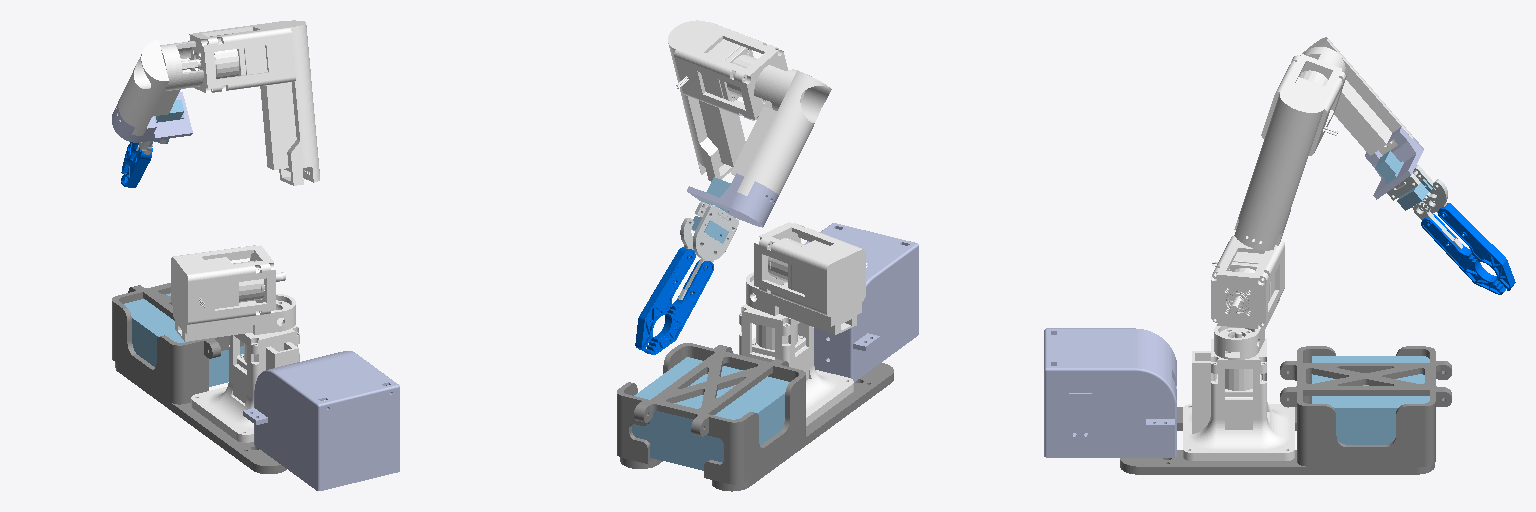
The robot description file, URDF, robot "onshape":
<robot name="onshape">
<link name="base">
<visual>
<origin xyz="-0.043000000000000093703 -0.056249572745411466346 0.053674572697836049617" rpy="1.570796326794896558 6.9388939039074071039e-18 -2.0296264668928948688e-16" />
<geometry>
<mesh filename="package://arm/robot/Whole_Assem/batterycover.stl"/>
</geometry>
<material name="batterycover_material">
<color rgba="0.79607843137254896693 0.82352941176470584317 0.9372549019607843146 1.0"/>
</material>
</visual>
<collision>
<origin xyz="-0.043000000000000093703 -0.056249572745411466346 0.053674572697836049617" rpy="1.570796326794896558 6.9388939039074071039e-18 -2.0296264668928948688e-16" />
<geometry>
<mesh filename="package://arm/robot/Whole_Assem/batterycover.stl"/>
</geometry>
</collision>
<visual>
<origin xyz="0.027999999999999969358 0.045620425736449282672 -0.0078254274213730105197" rpy="-1.570796326794896558 -0 -1.570796326794896558" />
<geometry>
<mesh filename="package://arm/robot/Whole_Assem/bar.stl"/>
</geometry>
<material name="bar_material">
<color rgba="0.62745098039215685404 0.62745098039215685404 0.62745098039215685404 1.0"/>
</material>
</visual>
<collision>
<origin xyz="0.027999999999999969358 0.045620425736449282672 -0.0078254274213730105197" rpy="-1.570796326794896558 -0 -1.570796326794896558" />
<geometry>
<mesh filename="package://arm/robot/Whole_Assem/bar.stl"/>
</geometry>
</collision>
<visual>
<origin xyz="-0.045499999999999984901 0.18587042725458807757 0.00017457269783627965554" rpy="-1.570796326794896558 -0 -1.570796326794896558" />
<geometry>
<mesh filename="package://arm/robot/Whole_Assem/nuc_enclosure_right_v8.step.stl"/>
</geometry>
<material name="nuc_enclosure_right_v8.step_material">
<color rgba="0.62745098039215685404 0.62745098039215685404 0.62745098039215685404 1.0"/>
</material>
</visual>
<collision>
<origin xyz="-0.045499999999999984901 0.18587042725458807757 0.00017457269783627965554" rpy="-1.570796326794896558 -0 -1.570796326794896558" />
<geometry>
<mesh filename="package://arm/robot/Whole_Assem/nuc_enclosure_right_v8.step.stl"/>
</geometry>
</collision>
<visual>
<origin xyz="-0.029000000000002121303 0.050370427254587735177 0.059174572697836602675" rpy="1.570796326794896558 9.0105057071027178548e-17 1.570796326794896558" />
<geometry>
<mesh filename="package://arm/robot/Whole_Assem/cap.stl"/>
</geometry>
<material name="cap_material">
<color rgba="0.62745098039215685404 0.62745098039215685404 0.62745098039215685404 1.0"/>
</material>
</visual>
<collision>
<origin xyz="-0.029000000000002121303 0.050370427254587735177 0.059174572697836602675" rpy="1.570796326794896558 9.0105057071027178548e-17 1.570796326794896558" />
<geometry>
<mesh filename="package://arm/robot/Whole_Assem/cap.stl"/>
</geometry>
</collision>
<visual>
<origin xyz="-9.0000000000006741274e-05 -0.001039572745412595256 0.037174572697836277824" rpy="-1.570796326794896558 -0 0" />
<geometry>
<mesh filename="package://arm/robot/Whole_Assem/motor.stl"/>
</geometry>
<material name="motor_material">
<color rgba="1 1 1 1.0"/>
</material>
</visual>
<collision>
<origin xyz="-9.0000000000006741274e-05 -0.001039572745412595256 0.037174572697836277824" rpy="-1.570796326794896558 -0 0" />
<geometry>
<mesh filename="package://arm/robot/Whole_Assem/motor.stl"/>
</geometry>
</collision>
<visual>
<origin xyz="0.045500000000000005718 0.037870427254587731014 0.00017457269783625623677" rpy="-1.570796326794896558 -2.2204460492410355836e-16 1.57079632679489678" />
<geometry>
<mesh filename="package://arm/robot/Whole_Assem/nuc_enclosure_left_v27.step.stl"/>
</geometry>
<material name="nuc_enclosure_left_v27.step_material">
<color rgba="0.62745098039215685404 0.62745098039215685404 0.62745098039215685404 1.0"/>
</material>
</visual>
<collision>
<origin xyz="0.045500000000000005718 0.037870427254587731014 0.00017457269783625623677" rpy="-1.570796326794896558 -2.2204460492410355836e-16 1.57079632679489678" />
<geometry>
<mesh filename="package://arm/robot/Whole_Assem/nuc_enclosure_left_v27.step.stl"/>
</geometry>
</collision>
<visual>
<origin xyz="0 -0.001129572745412591589 0.00017457269783627965554" rpy="0 -0 0" />
<geometry>
<mesh filename="package://arm/robot/Whole_Assem/base.stl"/>
</geometry>
<material name="base_material">
<color rgba="1 1 1 1.0"/>
</material>
</visual>
<collision>
<origin xyz="0 -0.001129572745412591589 0.00017457269783627965554" rpy="0 -0 0" />
<geometry>
<mesh filename="package://arm/robot/Whole_Assem/base.stl"/>
</geometry>
</collision>
<visual>
<origin xyz="-0.0030000000000000581757 0.11587042725458805703 0.0041745726978362797388" rpy="0 -0 -1.2325951644077898923e-32" />
<geometry>
<mesh filename="package://arm/robot/Whole_Assem/nuc.stl"/>
</geometry>
<material name="nuc_material">
<color rgba="0.61568627450980395466 0.81176470588235294379 0.92941176470588238168 1.0"/>
</material>
</visual>
<collision>
<origin xyz="-0.0030000000000000581757 0.11587042725458805703 0.0041745726978362797388" rpy="0 -0 -1.2325951644077898923e-32" />
<geometry>
<mesh filename="package://arm/robot/Whole_Assem/nuc.stl"/>
</geometry>
</collision>
<visual>
<origin xyz="-0.063000000000000000444 0.045620425736449157772 -0.0078254274213730122545" rpy="-1.570796326794896558 -0 -1.570796326794896558" />
<geometry>
<mesh filename="package://arm/robot/Whole_Assem/bar.stl"/>
</geometry>
<material name="bar_material">
<color rgba="0.62745098039215685404 0.62745098039215685404 0.62745098039215685404 1.0"/>
</material>
</visual>
<collision>
<origin xyz="-0.063000000000000000444 0.045620425736449157772 -0.0078254274213730122545" rpy="-1.570796326794896558 -0 -1.570796326794896558" />
<geometry>
<mesh filename="package://arm/robot/Whole_Assem/bar.stl"/>
</geometry>
</collision>
<visual>
<origin xyz="-0.040500000000000015155 -0.056249572745412590447 0.053674572697836375745" rpy="1.570796326794896558 1.5919291637703030189e-31 1.3010426069826006369e-16" />
<geometry>
<mesh filename="package://arm/robot/Whole_Assem/batterybox.stl"/>
</geometry>
<material name="batterybox_material">
<color rgba="0.79607843137254896693 0.82352941176470584317 0.9372549019607843146 1.0"/>
</material>
</visual>
<collision>
<origin xyz="-0.040500000000000015155 -0.056249572745412590447 0.053674572697836375745" rpy="1.570796326794896558 1.5919291637703030189e-31 1.3010426069826006369e-16" />
<geometry>
<mesh filename="package://arm/robot/Whole_Assem/batterybox.stl"/>
</geometry>
</collision>
<visual>
<origin xyz="0 -0.001129572745412591589 0.078174572697836286483" rpy="0 -0 0" />
<geometry>
<mesh filename="package://arm/robot/Whole_Assem/base2.stl"/>
</geometry>
<material name="base2_material">
<color rgba="1 1 1 1.0"/>
</material>
</visual>
<collision>
<origin xyz="0 -0.001129572745412591589 0.078174572697836286483" rpy="0 -0 0" />
<geometry>
<mesh filename="package://arm/robot/Whole_Assem/base2.stl"/>
</geometry>
</collision>
<inertial>
<origin xyz="-0.00094862752882530869403 0.042039439754247905079 0.02874026670072112391" rpy="0 0 0"/>
<mass value="2.9819518087274810014" />
<inertia ixx="0.028563426842572840758" ixy="0.00053767167140223142818"  ixz="3.2108459365490719234e-05" iyy="0.0044211640677897286883" iyz="0.0005040806111046927402" izz="0.030089818410769811341" />
</inertial>
</link>

<link name="link1">
<visual>
<origin xyz="-0.0054332708436385518391 -1.7564075194265171831e-17 -0.033000000000000001554" rpy="3.141592653589793116 -0 -1.5265782411869662363e-17" />
<geometry>
<mesh filename="package://arm/robot/Whole_Assem/link1.stl"/>
</geometry>
<material name="link1_material">
<color rgba="1 1 1 1.0"/>
</material>
</visual>
<collision>
<origin xyz="-0.0054332708436385518391 -1.7564075194265171831e-17 -0.033000000000000001554" rpy="3.141592653589793116 -0 -1.5265782411869662363e-17" />
<geometry>
<mesh filename="package://arm/robot/Whole_Assem/link1.stl"/>
</geometry>
</collision>
<visual>
<origin xyz="-0.0054332708436385518391 -1.7564075194265171831e-17 -0.033000000000000001554" rpy="3.141592653589793116 -1.570796326794896558 0" />
<geometry>
<mesh filename="package://arm/robot/Whole_Assem/base2.stl"/>
</geometry>
<material name="base2_material">
<color rgba="1 1 1 1.0"/>
</material>
</visual>
<collision>
<origin xyz="-0.0054332708436385518391 -1.7564075194265171831e-17 -0.033000000000000001554" rpy="3.141592653589793116 -1.570796326794896558 0" />
<geometry>
<mesh filename="package://arm/robot/Whole_Assem/base2.stl"/>
</geometry>
</collision>
<visual>
<origin xyz="-0.046433270843638380088 9.0000000000024088509e-05 -0.033089999999999925029" rpy="1.570796326794896558 -1.5707963267948961139 0" />
<geometry>
<mesh filename="package://arm/robot/Whole_Assem/motor.stl"/>
</geometry>
<material name="motor_material">
<color rgba="1 1 1 1.0"/>
</material>
</visual>
<collision>
<origin xyz="-0.046433270843638380088 9.0000000000024088509e-05 -0.033089999999999925029" rpy="1.570796326794896558 -1.5707963267948961139 0" />
<geometry>
<mesh filename="package://arm/robot/Whole_Assem/motor.stl"/>
</geometry>
</collision>
<inertial>
<origin xyz="-0.040852211317392729539 8.6609206749093103081e-05 -0.029620937758826369757" rpy="0 0 0"/>
<mass value="0.64328124355788018907" />
<inertia ixx="0.0002449200641864007484" ixy="2.3827050373876424334e-07"  ixz="-2.102663081365386058e-05" iyy="0.00050526449070353190475" iyz="1.93588620686335655e-07" izz="0.00044515132695697242227" />
</inertial>
</link>

<link name="link2">
<visual>
<origin xyz="-0.20499999999999801714 -4.8572257327350598644e-16 0.05999999999999967859" rpy="-1.2137888792318470409e-15 -1.570796326794896558 0" />
<geometry>
<mesh filename="package://arm/robot/Whole_Assem/link2.2.stl"/>
</geometry>
<material name="link2.2_material">
<color rgba="1 1 1 1.0"/>
</material>
</visual>
<collision>
<origin xyz="-0.20499999999999801714 -4.8572257327350598644e-16 0.05999999999999967859" rpy="-1.2137888792318470409e-15 -1.570796326794896558 0" />
<geometry>
<mesh filename="package://arm/robot/Whole_Assem/link2.2.stl"/>
</geometry>
</collision>
<visual>
<origin xyz="-0.20499999999999812816 -4.2327252813834093104e-16 0.059999999999999685529" rpy="2.4893298511732086215e-16 6.0581801939752800655e-16 3.1415926535897926719" />
<geometry>
<mesh filename="package://arm/robot/Whole_Assem/base2.stl"/>
</geometry>
<material name="base2_material">
<color rgba="1 1 1 1.0"/>
</material>
</visual>
<collision>
<origin xyz="-0.20499999999999812816 -4.2327252813834093104e-16 0.059999999999999685529" rpy="2.4893298511732086215e-16 6.0581801939752800655e-16 3.1415926535897926719" />
<geometry>
<mesh filename="package://arm/robot/Whole_Assem/base2.stl"/>
</geometry>
</collision>
<visual>
<origin xyz="2.7755575615628913511e-17 6.9388939039072283776e-18 0.020000000000000003886" rpy="1.570796326794896558 1.570796326794896558 0" />
<geometry>
<mesh filename="package://arm/robot/Whole_Assem/link2.stl"/>
</geometry>
<material name="link2_material">
<color rgba="1 1 1 1.0"/>
</material>
</visual>
<collision>
<origin xyz="2.7755575615628913511e-17 6.9388939039072283776e-18 0.020000000000000003886" rpy="1.570796326794896558 1.570796326794896558 0" />
<geometry>
<mesh filename="package://arm/robot/Whole_Assem/link2.stl"/>
</geometry>
</collision>
<visual>
<origin xyz="-0.20508999999999993902 8.9999999999472446444e-05 0.019000000000000374228" rpy="-1.570796326794896558 1.0122583203283967912e-15 -1.1794672002304914752e-15" />
<geometry>
<mesh filename="package://arm/robot/Whole_Assem/motor.stl"/>
</geometry>
<material name="motor_material">
<color rgba="1 1 1 1.0"/>
</material>
</visual>
<collision>
<origin xyz="-0.20508999999999993902 8.9999999999472446444e-05 0.019000000000000374228" rpy="-1.570796326794896558 1.0122583203283967912e-15 -1.1794672002304914752e-15" />
<geometry>
<mesh filename="package://arm/robot/Whole_Assem/motor.stl"/>
</geometry>
</collision>
<inertial>
<origin xyz="-0.17328672464564939815 4.183619830649827452e-05 0.010341353672720928619" rpy="0 0 0"/>
<mass value="0.84537208634905847138" />
<inertia ixx="0.00076159907830105830207" ixy="1.2481861267342365719e-06"  ixz="0.00070910741547682248735" iyy="0.0037852674027457878202" iyz="-6.6015902025999712907e-07" izz="0.0032510342013547530518" />
</inertial>
</link>

<link name="link3">
<visual>
<origin xyz="-0.092500000000000845435 1.5543122344752191566e-15 0.014999999999999534539" rpy="1.5707963267948958919 -1.5553548128009674369e-15 -1.5707963267948972241" />
<geometry>
<mesh filename="package://arm/robot/Whole_Assem/servo.stl"/>
</geometry>
<material name="servo_material">
<color rgba="0.61568627450980395466 0.81176470588235294379 0.92941176470588238168 1.0"/>
</material>
</visual>
<collision>
<origin xyz="-0.092500000000000845435 1.5543122344752191566e-15 0.014999999999999534539" rpy="1.5707963267948958919 -1.5553548128009674369e-15 -1.5707963267948972241" />
<geometry>
<mesh filename="package://arm/robot/Whole_Assem/servo.stl"/>
</geometry>
</collision>
<visual>
<origin xyz="2.7755575615628913511e-17 0 0.020000000000000010825" rpy="1.57079632679489678 1.570796326794896558 0" />
<geometry>
<mesh filename="package://arm/robot/Whole_Assem/link3.stl"/>
</geometry>
<material name="link3_material">
<color rgba="1 1 1 1.0"/>
</material>
</visual>
<collision>
<origin xyz="2.7755575615628913511e-17 0 0.020000000000000010825" rpy="1.57079632679489678 1.570796326794896558 0" />
<geometry>
<mesh filename="package://arm/robot/Whole_Assem/link3.stl"/>
</geometry>
</collision>
<visual>
<origin xyz="-0.10180032389301382767 0.015480877538495141366 -9.4974788687557376576e-05" rpy="4.3016806582246644288e-14 -1.5707963267948166219 0" />
<geometry>
<mesh filename="package://arm/robot/Whole_Assem/gripperlink2.stl"/>
</geometry>
<material name="gripperlink2_material">
<color rgba="0.79607843137254896693 0.82352941176470584317 0.9372549019607843146 1.0"/>
</material>
</visual>
<collision>
<origin xyz="-0.10180032389301382767 0.015480877538495141366 -9.4974788687557376576e-05" rpy="4.3016806582246644288e-14 -1.5707963267948166219 0" />
<geometry>
<mesh filename="package://arm/robot/Whole_Assem/gripperlink2.stl"/>
</geometry>
</collision>
<visual>
<origin xyz="-0.10180032389301330031 0.015480877538495224632 -9.4974788687640643303e-05" rpy="4.7133166719546065429e-14 -1.5707963267948155117 0" />
<geometry>
<mesh filename="package://arm/robot/Whole_Assem/gripperlink1.stl"/>
</geometry>
<material name="gripperlink1_material">
<color rgba="0.79607843137254896693 0.82352941176470584317 0.9372549019607843146 1.0"/>
</material>
</visual>
<collision>
<origin xyz="-0.10180032389301330031 0.015480877538495224632 -9.4974788687640643303e-05" rpy="4.7133166719546065429e-14 -1.5707963267948155117 0" />
<geometry>
<mesh filename="package://arm/robot/Whole_Assem/gripperlink1.stl"/>
</geometry>
</collision>
<inertial>
<origin xyz="-0.059154639552925582235 -4.1652120917699786521e-06 -0.013202620155315092365" rpy="0 0 0"/>
<mass value="0.16572118754875830859" />
<inertia ixx="5.6397743731799028998e-05" ixy="2.2988205287659273953e-08"  ixz="9.0423920884201157601e-06" iyy="0.00029479933518177962393" iyz="1.60670726097580851e-08" izz="0.00027850551732600084846" />
</inertial>
</link>

<link name="gripper">
<visual>
<origin xyz="0.00067499999999989790389 -0.0040000000000002811085 -0.016499999999999848121" rpy="3.141592653589793116 -2.6886223288726292837e-15 3.1415926535897691352" />
<geometry>
<mesh filename="package://arm/robot/Whole_Assem/gripper_4.stl"/>
</geometry>
<material name="gripper_4_material">
<color rgba="0.89411764705882357251 0.91372549019607840481 0.92941176470588238168 1.0"/>
</material>
</visual>
<collision>
<origin xyz="0.00067499999999989790389 -0.0040000000000002811085 -0.016499999999999848121" rpy="3.141592653589793116 -2.6886223288726292837e-15 3.1415926535897691352" />
<geometry>
<mesh filename="package://arm/robot/Whole_Assem/gripper_4.stl"/>
</geometry>
</collision>
<visual>
<origin xyz="-0.0078250000000000818901 -0.0040000000000001423306 -0.032499999999999779066" rpy="0.094984357307938374615 -2.818051666908969439e-16 1.5707963267948961139" />
<geometry>
<mesh filename="package://arm/robot/Whole_Assem/gripper_2.stl"/>
</geometry>
<material name="gripper_2_material">
<color rgba="0.89411764705882357251 0.91372549019607840481 0.92941176470588238168 1.0"/>
</material>
</visual>
<collision>
<origin xyz="-0.0078250000000000818901 -0.0040000000000001423306 -0.032499999999999779066" rpy="0.094984357307938374615 -2.818051666908969439e-16 1.5707963267948961139" />
<geometry>
<mesh filename="package://arm/robot/Whole_Assem/gripper_2.stl"/>
</geometry>
</collision>
<visual>
<origin xyz="-0.00076017147315771138594 -0.0015000000000007507328 -0.047649123529255869858" rpy="3.1415926535897922278 0.094984357307933767189 -2.6979513969416627637e-14" />
<geometry>
<mesh filename="package://arm/robot/Whole_Assem/gripper_3.stl"/>
</geometry>
<material name="gripper_3_material">
<color rgba="0 0.50196078431372548323 1 1.0"/>
</material>
</visual>
<collision>
<origin xyz="-0.00076017147315771138594 -0.0015000000000007507328 -0.047649123529255869858" rpy="3.1415926535897922278 0.094984357307933767189 -2.6979513969416627637e-14" />
<geometry>
<mesh filename="package://arm/robot/Whole_Assem/gripper_3.stl"/>
</geometry>
</collision>
<visual>
<origin xyz="9.0971822251845191332e-05 -0.0015000000000004731771 -0.046531684784240717745" rpy="-3.1415926535897926719 -0.043187700240528231754 3.1415926535897664706" />
<geometry>
<mesh filename="package://arm/robot/Whole_Assem/gripper_3.stl"/>
</geometry>
<material name="gripper_3_material">
<color rgba="0 0.50196078431372548323 1 1.0"/>
</material>
</visual>
<collision>
<origin xyz="9.0971822251845191332e-05 -0.0015000000000004731771 -0.046531684784240717745" rpy="-3.1415926535897926719 -0.043187700240528231754 3.1415926535897664706" />
<geometry>
<mesh filename="package://arm/robot/Whole_Assem/gripper_3.stl"/>
</geometry>
</collision>
<visual>
<origin xyz="0.00067499999999995341504 0.0089999999999998969713 -0.016499999999999848121" rpy="-3.141592653589793116 -3.1341729464866167256e-15 3.1415926535897691352" />
<geometry>
<mesh filename="package://arm/robot/Whole_Assem/gripper_5.stl"/>
</geometry>
<material name="gripper_5_material">
<color rgba="0.89411764705882357251 0.91372549019607840481 0.92941176470588238168 1.0"/>
</material>
</visual>
<collision>
<origin xyz="0.00067499999999995341504 0.0089999999999998969713 -0.016499999999999848121" rpy="-3.141592653589793116 -3.1341729464866167256e-15 3.1415926535897691352" />
<geometry>
<mesh filename="package://arm/robot/Whole_Assem/gripper_5.stl"/>
</geometry>
</collision>
<visual>
<origin xyz="-5.5511151231257827021e-17 0 -0.0011238668575307142472" rpy="-1.570796326794896558 -1.537093985394676151e-17 6.1870996271311447769e-17" />
<geometry>
<mesh filename="package://arm/robot/Whole_Assem/gripper_8.stl"/>
</geometry>
<material name="gripper_8_material">
<color rgba="0.90196078431372550543 0.92156862745098033773 0.92941176470588238168 1.0"/>
</material>
</visual>
<collision>
<origin xyz="-5.5511151231257827021e-17 0 -0.0011238668575307142472" rpy="-1.570796326794896558 -1.537093985394676151e-17 6.1870996271311447769e-17" />
<geometry>
<mesh filename="package://arm/robot/Whole_Assem/gripper_8.stl"/>
</geometry>
</collision>
<visual>
<origin xyz="0.0091750000000002940315 -0.0040000000000006141754 -0.032499999999999910905" rpy="0.043187700240529459939 -3.5932039344207654432e-16 1.57079632679489678" />
<geometry>
<mesh filename="package://arm/robot/Whole_Assem/gripper_1.stl"/>
</geometry>
<material name="gripper_1_material">
<color rgba="0.89411764705882357251 0.91372549019607840481 0.92941176470588238168 1.0"/>
</material>
</visual>
<collision>
<origin xyz="0.0091750000000002940315 -0.0040000000000006141754 -0.032499999999999910905" rpy="0.043187700240529459939 -3.5932039344207654432e-16 1.57079632679489678" />
<geometry>
<mesh filename="package://arm/robot/Whole_Assem/gripper_1.stl"/>
</geometry>
</collision>
<visual>
<origin xyz="-0.00024968640208264392122 0.013499999999999054423 -0.016499999999999848121" rpy="1.570796326794871689 -1.5707963267948907848 0" />
<geometry>
<mesh filename="package://arm/robot/Whole_Assem/servo.stl"/>
</geometry>
<material name="servo_material">
<color rgba="0.61568627450980395466 0.81176470588235294379 0.92941176470588238168 1.0"/>
</material>
</visual>
<collision>
<origin xyz="-0.00024968640208264392122 0.013499999999999054423 -0.016499999999999848121" rpy="1.570796326794871689 -1.5707963267948907848 0" />
<geometry>
<mesh filename="package://arm/robot/Whole_Assem/servo.stl"/>
</geometry>
</collision>
<inertial>
<origin xyz="-0.0019691691678374255957 -0.0012056515638583780326 -0.05307171625105627788" rpy="0 0 0"/>
<mass value="0.045574572086383866032" />
<inertia ixx="7.0377054952081060236e-05" ixy="-6.2977673367866556081e-09"  ixz="-2.8157827238827543481e-06" iyy="7.5407102856481989981e-05" iyz="-8.4256578519192926494e-07" izz="6.9482496526636273771e-06" />
</inertial>
</link>

<joint name="j4" type="fixed">
<origin xyz="-0.11954000000000081227 1.3322676295501878485e-15 0.0089999999999997928879" rpy="1.5707963267948974462 0.28661171544860569727 1.5707963267948994446" />
<parent link="link3" />
<child link="gripper" />
<axis xyz="0 0 1"/>
<limit effort="1" velocity="20" />
<joint_properties friction="0.0"/>
</joint>

<joint name="j3" type="fixed">
<origin xyz="-0.20509002189797093108 -1.4672502470544634967e-05 0.090080000000000437499" rpy="3.141592653589788231 -1.9419648726808066193e-14 2.1321987590919362354" />
<parent link="link2" />
<child link="link3" />
<axis xyz="0 0 1"/>
<limit effort="1" velocity="20" />
<joint_properties friction="0.0"/>
</joint>

<joint name="j2" type="fixed">
<origin xyz="0.02464672915636164155 0.00019467250247003336366 -0.03309002189797083382" rpy="-1.570796326794896558 -1.2791473275524971598 1.5707963267950091346" />
<parent link="link1" />
<child link="link2" />
<axis xyz="0 0 1"/>
<limit effort="1" velocity="20" />
<joint_properties friction="0.0"/>
</joint>

<joint name="base_to_link1" type="fixed">
<origin xyz="-9.0021897970907725772e-05 -0.0011442452478826114701 0.10063457269783626646" rpy="3.141592653589793116 4.758088539404329584e-24 -0.21065212834965882371" />
<parent link="base" />
<child link="link1" />
<axis xyz="0 0 1"/>
<limit effort="1" velocity="20" />
<joint_properties friction="0.0"/>
</joint>


</robot>

--- Facts derived from the render (not from the file) ---
The picture shows the robot from 3 angles, left to right: view 1: azimuth 30°, elevation 25°; view 2: azimuth 150°, elevation 25°; view 3: azimuth 270°, elevation 25°; orthographic projection.
Model onshape with 5 links and 4 joints (4 fixed), rooted at base, posed every joint at zero.
Visible links, largest first — view 1: base, link2, link1, link3, gripper; view 2: base, link2, link1, link3, gripper; view 3: base, link2, link1, link3, gripper.
Boxes of the visible links, bbox=[...] form: base: bbox=[112, 283, 399, 490]; link2: bbox=[181, 20, 319, 185]; link1: bbox=[171, 245, 295, 341]; link3: bbox=[112, 40, 203, 142]; gripper: bbox=[121, 138, 169, 187]; base: bbox=[617, 223, 918, 491]; link2: bbox=[668, 20, 787, 181]; link1: bbox=[746, 222, 867, 334]; link3: bbox=[687, 65, 831, 227]; gripper: bbox=[635, 202, 738, 354]; base: bbox=[1044, 328, 1451, 474]; link2: bbox=[1234, 54, 1346, 250]; link1: bbox=[1211, 236, 1284, 359]; link3: bbox=[1300, 37, 1423, 199]; gripper: bbox=[1387, 165, 1515, 294].
Size in the robot's own frame: 0.1631 by 0.4182 by 0.3679 metres.
29 mesh visuals loaded from 23 distinct referenced files (22 binary STL); not drawn: 1 (reference not matched to a file when rendering).
